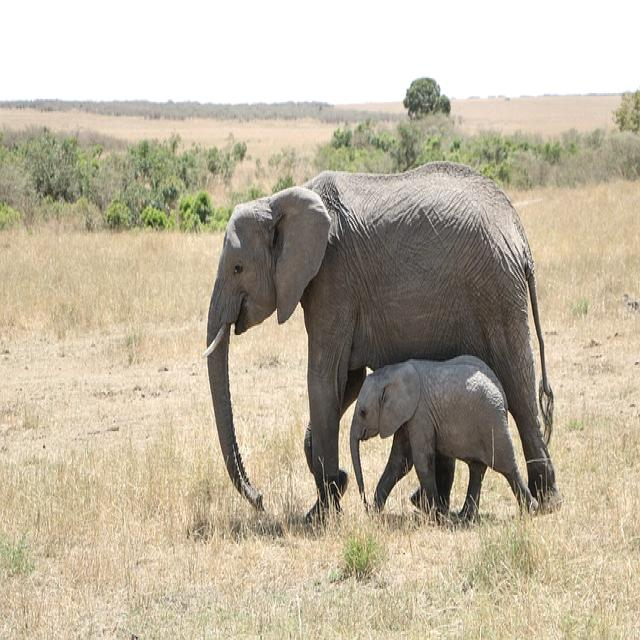FIL: (202, 168, 560, 518), (350, 349, 540, 516)
